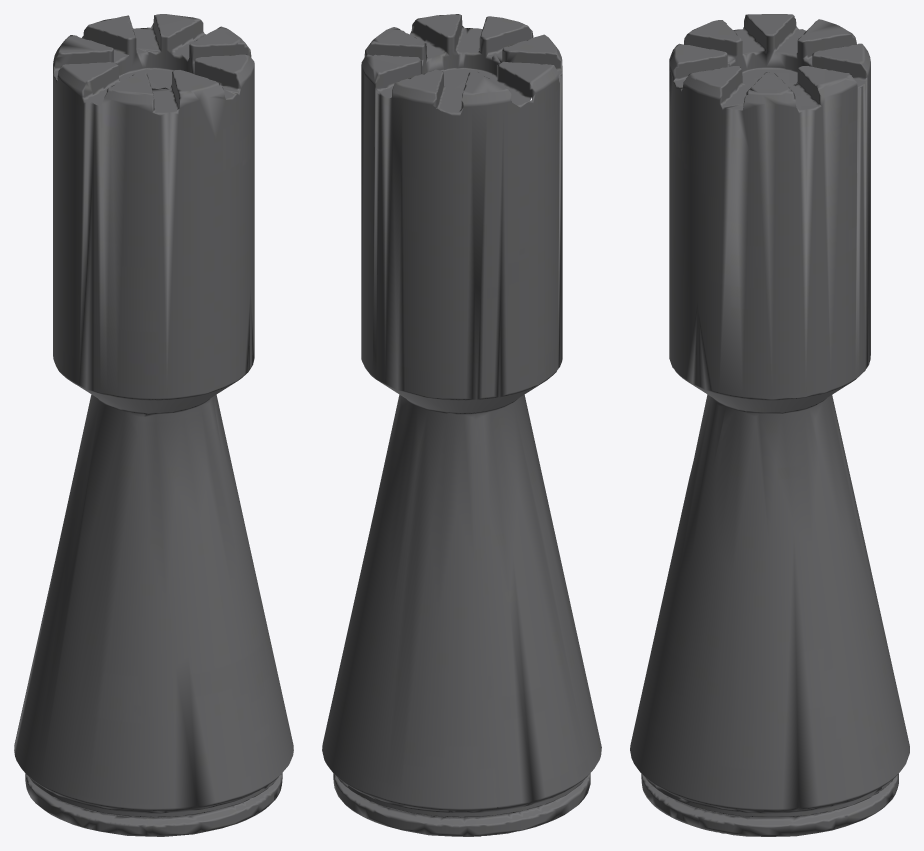
Rendered from king-black.glb.
The picture shows the model from 3 angles, left to right: view 1: azimuth 30°, elevation 25°; view 2: azimuth 150°, elevation 25°; view 3: azimuth 270°, elevation 25°; orthographic projection.
Visible parts, largest first — view 1: 01_kral_cerna; view 2: 01_kral_cerna; view 3: 01_kral_cerna.
Boxes of the visible parts, <box> form: 01_kral_cerna: <box>14,14,293,836</box>; 01_kral_cerna: <box>322,14,601,836</box>; 01_kral_cerna: <box>630,14,909,836</box>.
Size of the model in its own units: 0.5731 by 1.65 by 0.5727.
Materials: 1 (1 with a texture image).
